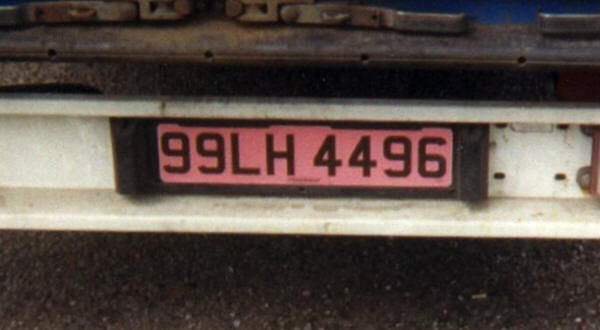license_plate: (154, 122, 453, 187)
